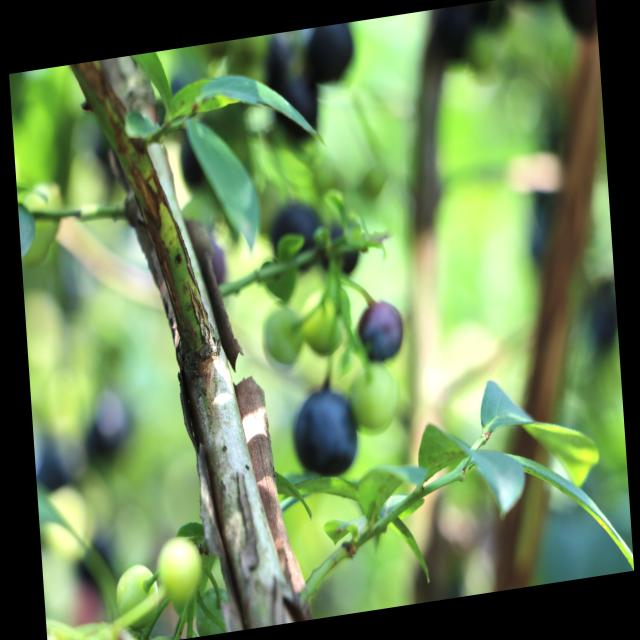blueberry: (291, 378, 366, 479), (267, 189, 324, 266), (352, 293, 408, 367), (266, 74, 319, 146), (84, 392, 136, 463), (303, 22, 357, 82), (317, 213, 361, 274)
blueberry-unripe: (348, 364, 398, 436), (156, 532, 204, 604), (111, 560, 159, 628), (262, 302, 304, 371), (300, 291, 345, 354)
